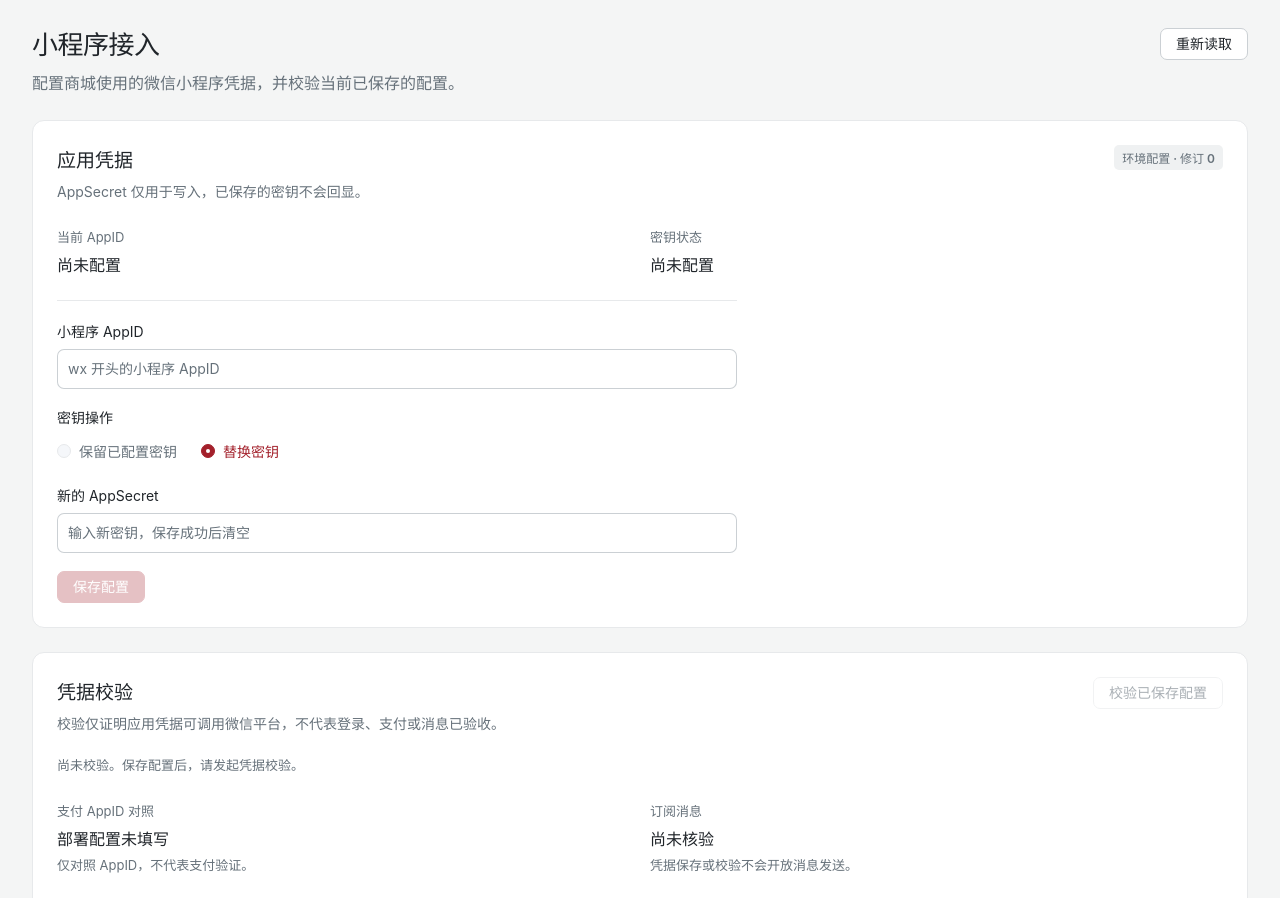
handles missing configuration and read failures without exposing unsafe response messages
Check: the radio button labelled "保留已配置密钥" is disabled, box x1=57 y1=443 x2=177 y2=460
Check: the button "校验已保存配置" is disabled, box x1=1093 y1=677 x2=1223 y2=709
Click the button "重新读取" at (1204, 44), box x1=1160 y1=28 x2=1248 y2=60
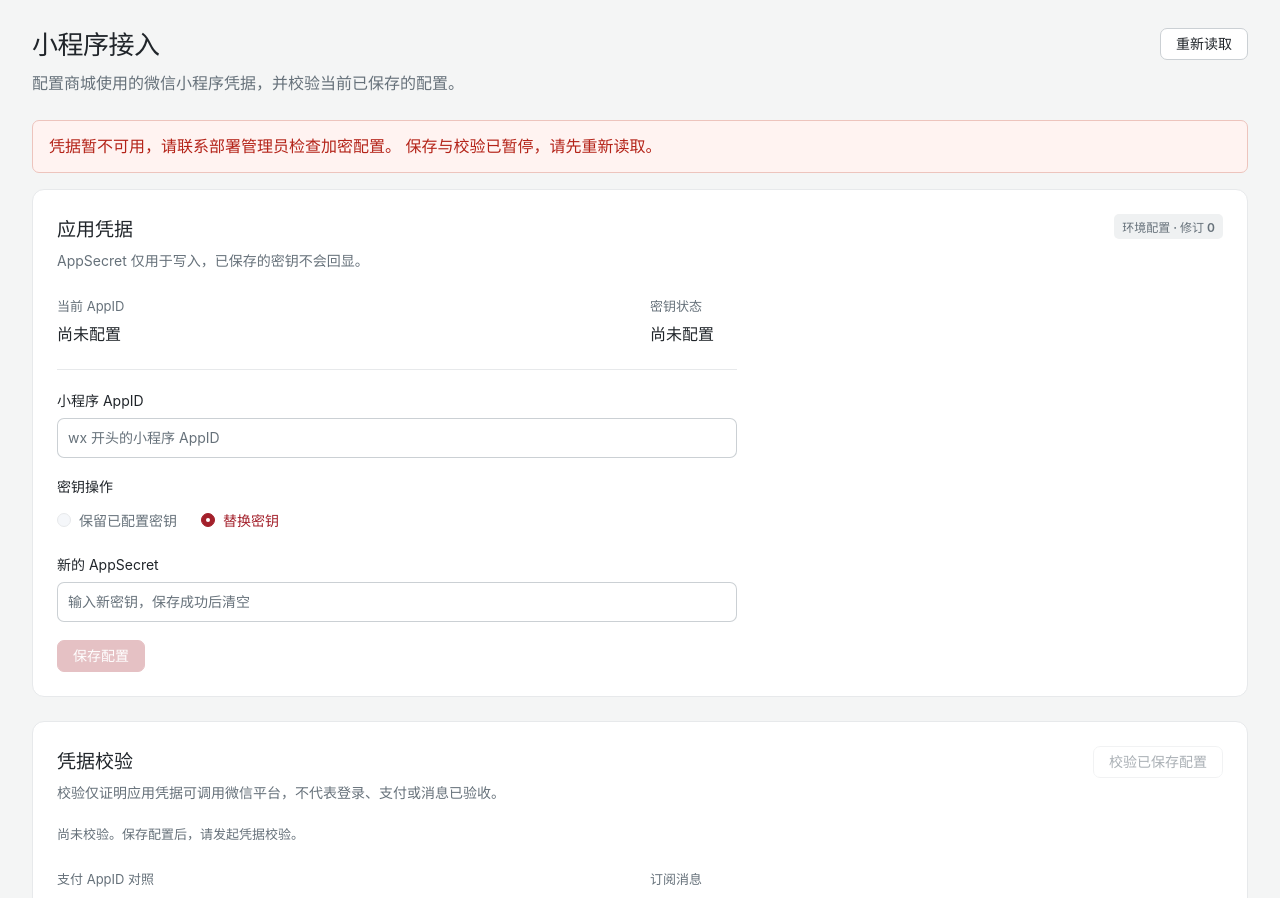
Check: the button "保存配置" is disabled, box x1=57 y1=640 x2=145 y2=672
Check: the text "凭据暂不可用" is shown, box x1=49 y1=136 x2=401 y2=156
